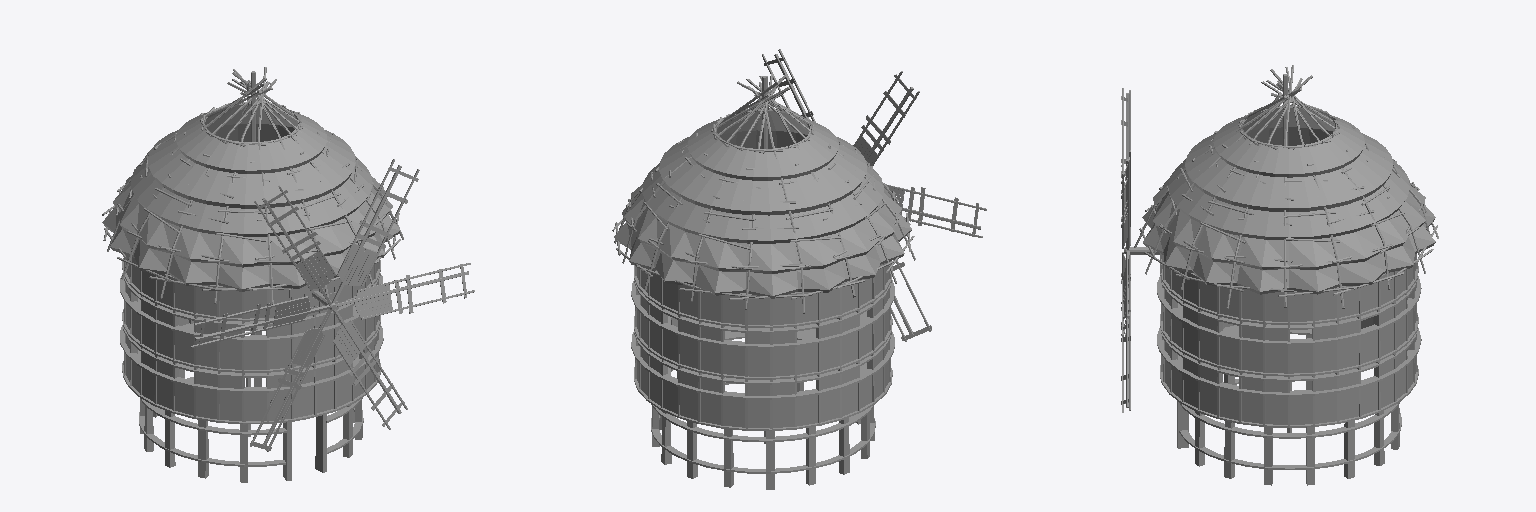
File: -LOD1_t_hut_007.obj
3 views of the same model, side by side, from view 1: azimuth 30°, elevation 25°; view 2: azimuth 150°, elevation 25°; view 3: azimuth 270°, elevation 25° (orthographic).
Parts seen in each view (by area): view 1: Cylinder.000_Cylinder.005, Cylinder.003_Cylinder.004, Circle.001_Circle.002; view 2: Cylinder.000_Cylinder.005, Cylinder.003_Cylinder.004, Circle.001_Circle.002; view 3: Cylinder.000_Cylinder.005, Cylinder.003_Cylinder.004, Circle.001_Circle.002.
Part boxes in pixels (bbox=[...]): Cylinder.000_Cylinder.005: bbox=[102, 67, 403, 482]; Cylinder.003_Cylinder.004: bbox=[102, 103, 400, 291]; Circle.001_Circle.002: bbox=[191, 159, 474, 451]; Cylinder.000_Cylinder.005: bbox=[612, 74, 915, 489]; Cylinder.003_Cylinder.004: bbox=[614, 109, 911, 298]; Circle.001_Circle.002: bbox=[762, 49, 986, 341]; Cylinder.000_Cylinder.005: bbox=[1134, 65, 1438, 485]; Cylinder.003_Cylinder.004: bbox=[1142, 106, 1435, 294]; Circle.001_Circle.002: bbox=[1121, 88, 1163, 412].
Size of the model in its own units: 12.72 by 15.91 by 12.55.